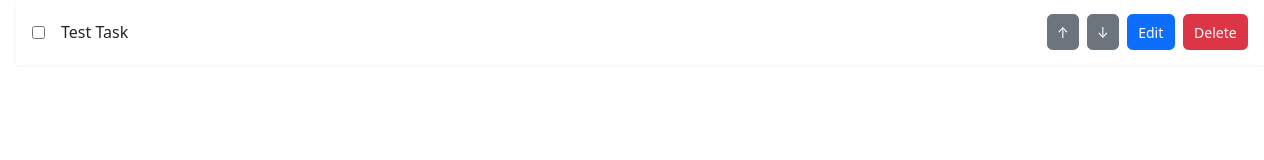
Scenario: TaskListElement component › switches to the edit view when edit is clicked
Click the button with test id "edit-button".
click(1151, 32)  # box [1127, 14, 1175, 50]
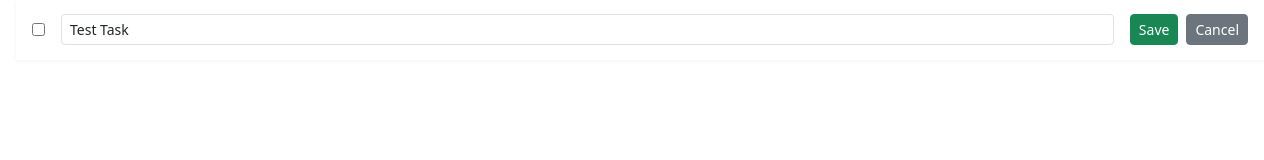
Expected: the list item with test id "task-edit-view" is shown, [16, 0, 1263, 60]
